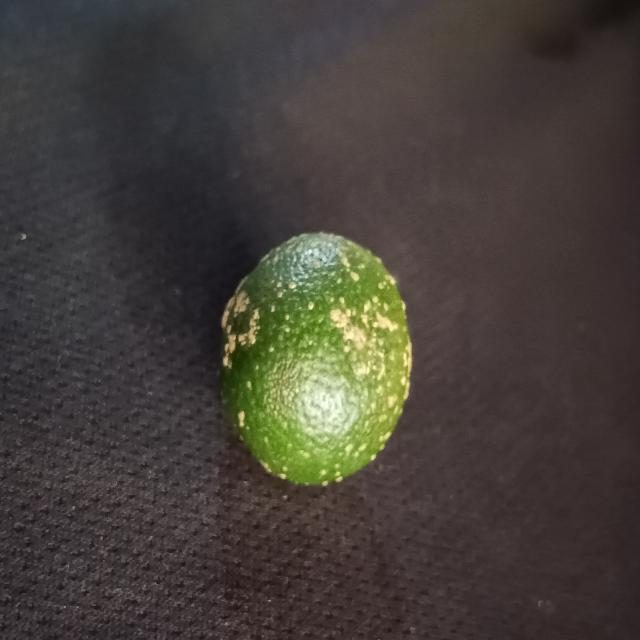scab: (207, 223, 415, 491)
